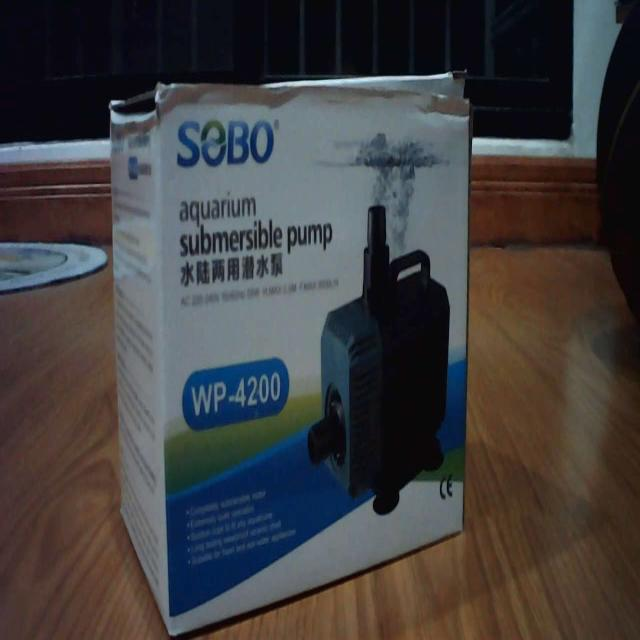SOBO_WP_4200: (99, 58, 479, 637)
